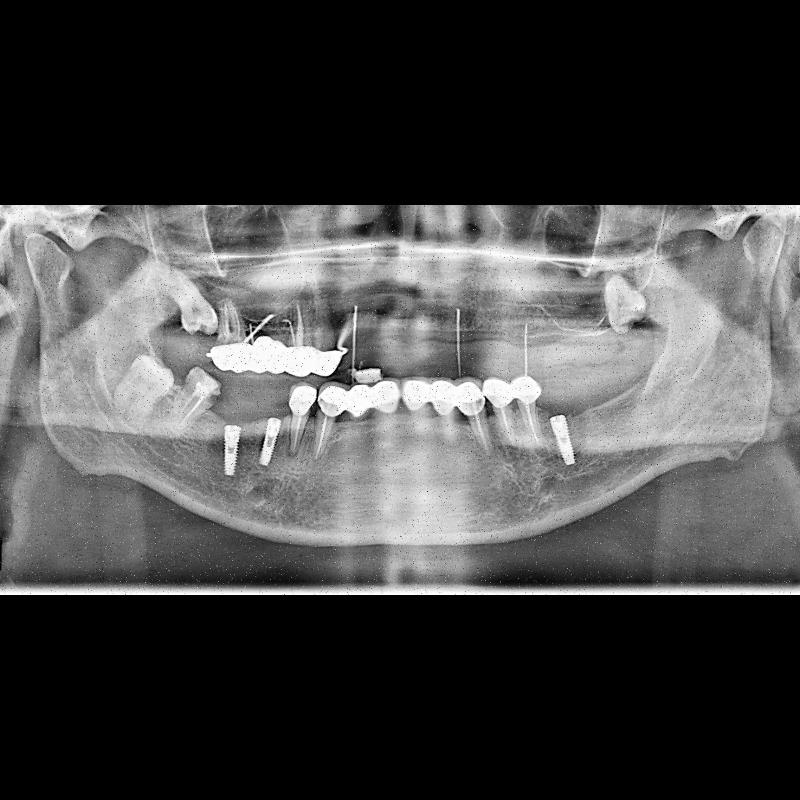osstem: (551, 412, 581, 469), (258, 416, 284, 470), (218, 424, 242, 476)
